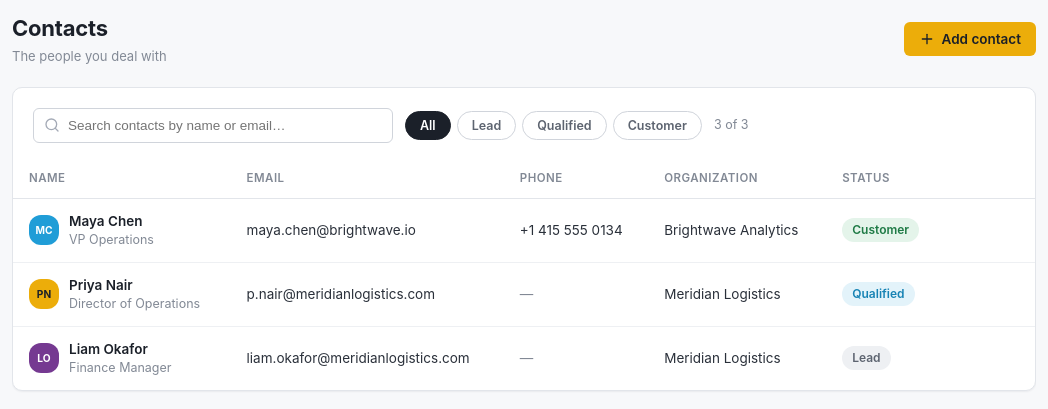
Test: Contacts page › renders contacts and filters by status
The width and height of the screenshot is (1048, 409).
Expected: the text "Maya Chen" is shown, [69, 211, 154, 231]
Click the button "Qualified".
click(564, 125)  # box [522, 110, 607, 140]
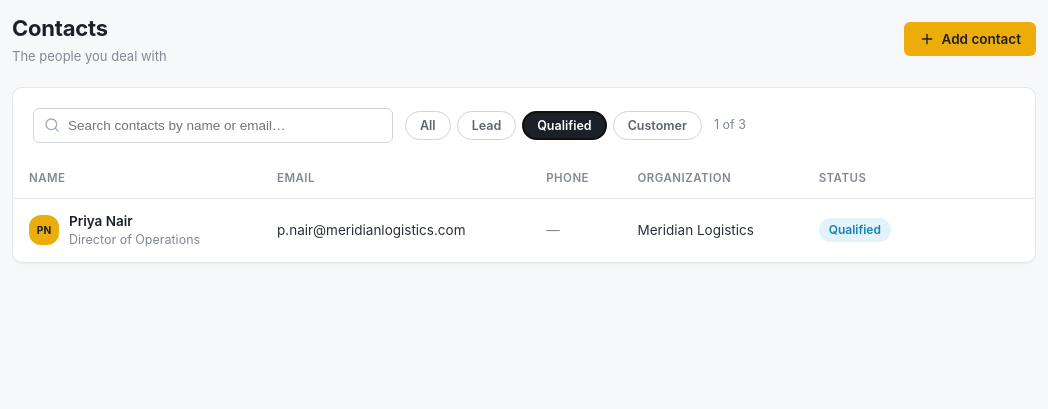
Expected: the text "Priya Nair" is shown, [69, 213, 133, 229]
Now the text "Maya Chen" is gone
Click the button "Customer".
click(657, 125)  # box [613, 110, 702, 140]
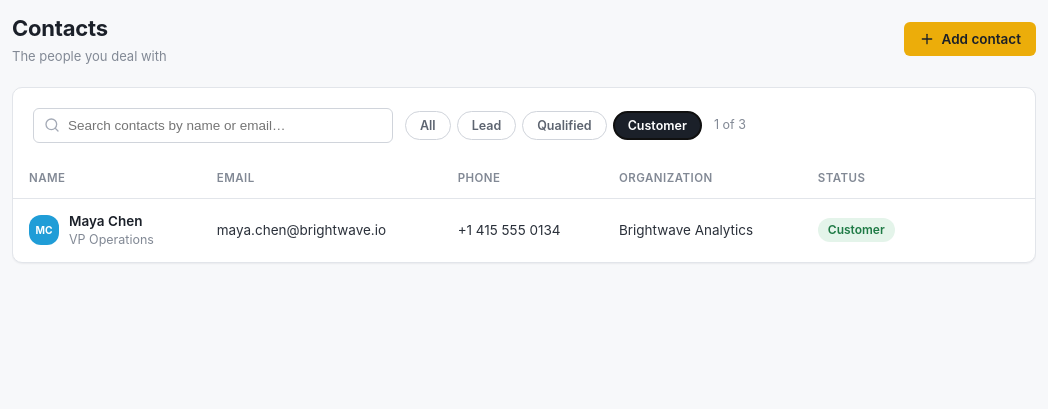
Now the text "Maya Chen" is shown, box [69, 211, 154, 231]
Now the text "Priya Nair" is gone
